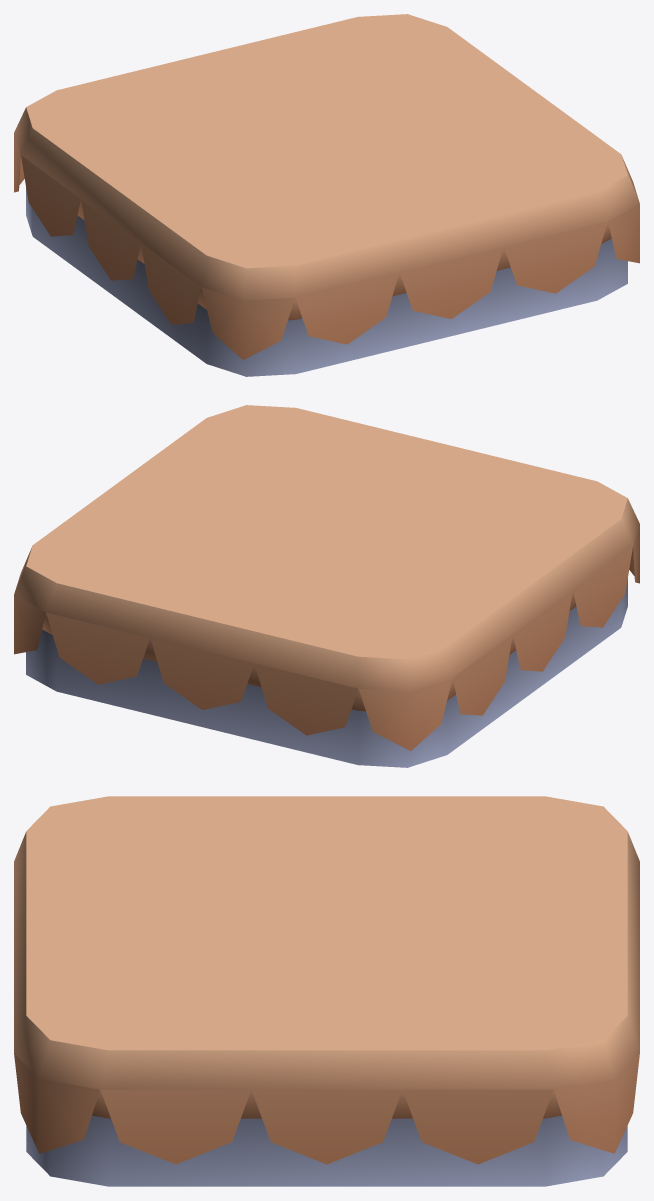
Rendered from block-grass-overhang-low-large.glb.
3 views of the same model, one above another, from view 1: azimuth 30°, elevation 25°; view 2: azimuth 150°, elevation 25°; view 3: azimuth 270°, elevation 25° (orthographic). The views are drawn at different scales.
Visible parts, largest first — view 1: block-grass-overhang-low-large; view 2: block-grass-overhang-low-large; view 3: block-grass-overhang-low-large.
Boxes of the visible parts, x1,y1,x2,y2 form: block-grass-overhang-low-large: (14, 14, 639, 376); block-grass-overhang-low-large: (14, 405, 639, 767); block-grass-overhang-low-large: (14, 796, 639, 1186).
Size of the model in its own units: 2.08 by 0.5 by 2.08.
